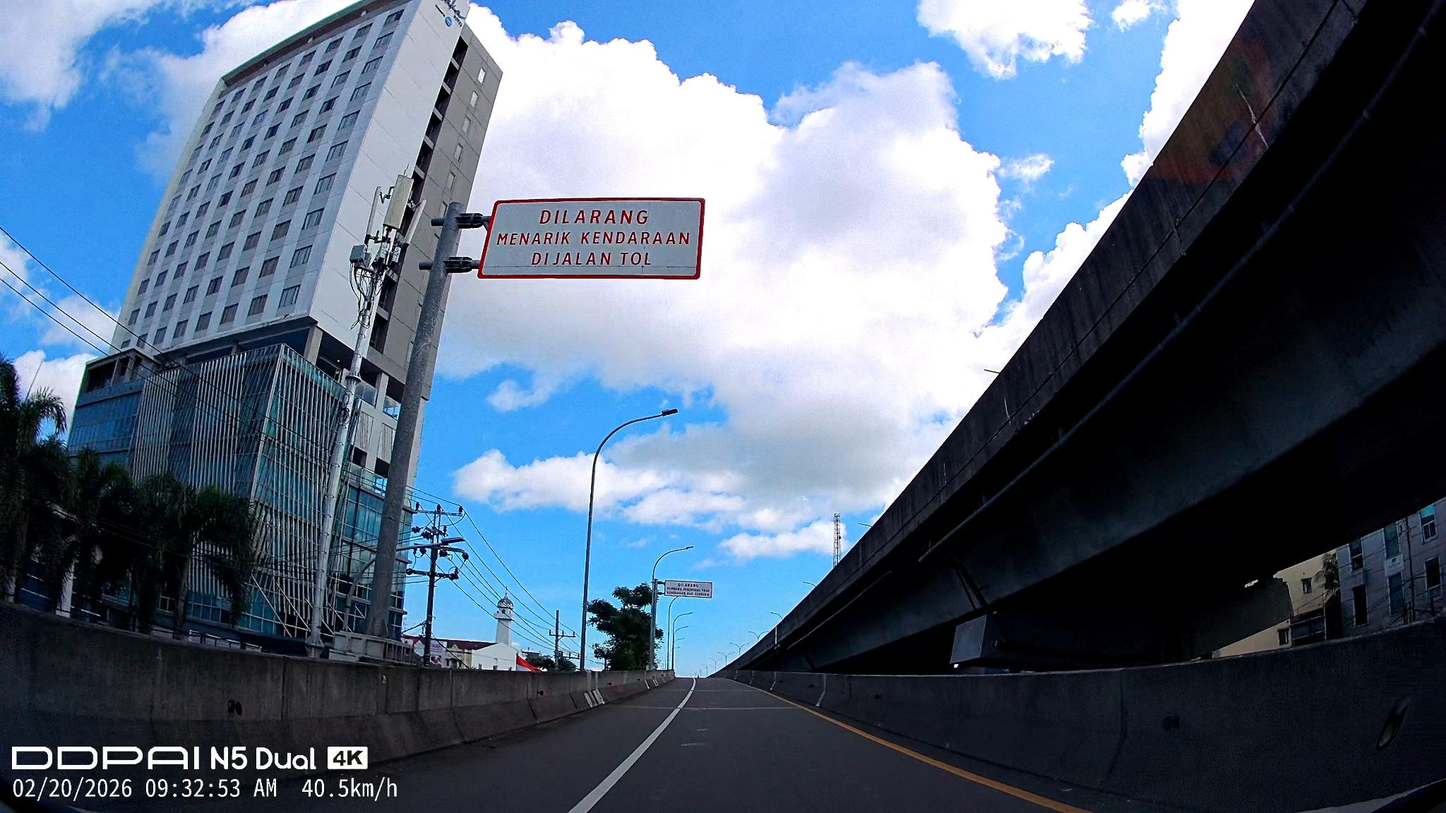rambu_teks: (474, 198, 706, 279)
